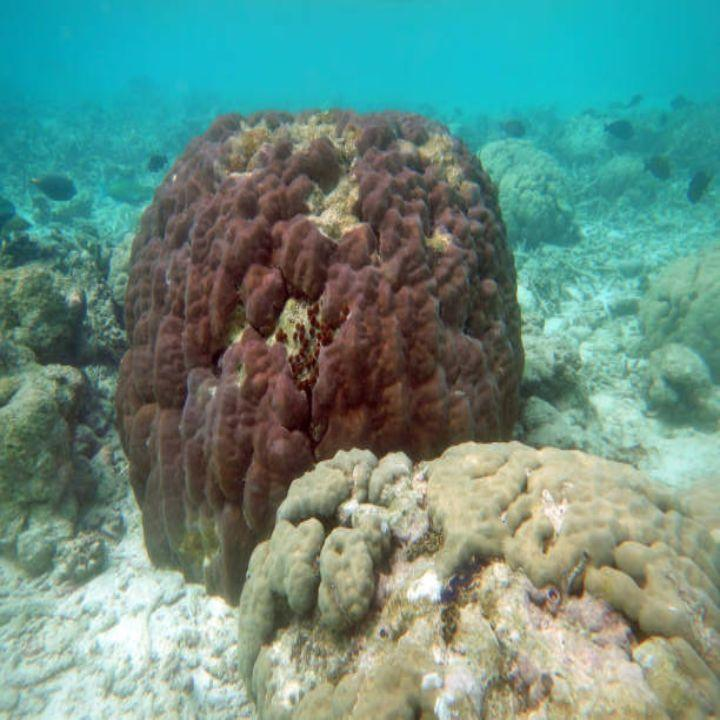Healthy Coral: (68, 87, 586, 573)
